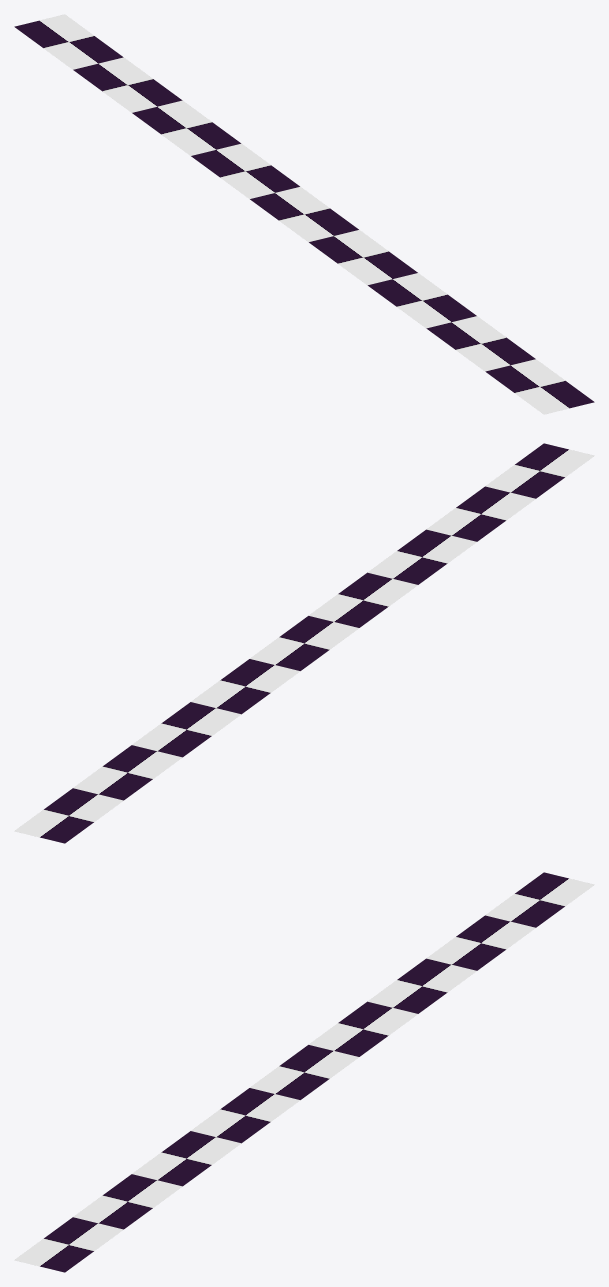
Rendered from checkpoint.glb.
3 views of the same model, one above another, from view 1: azimuth 30°, elevation 25°; view 2: azimuth 150°, elevation 25°; view 3: azimuth 330°, elevation 25° (orthographic).
Visible parts, largest first — view 1: Plane.002, Plane.006, Plane.001, Plane.007, Plane, Plane.003, Plane.005, Plane.008, Plane.004; view 2: Plane.002, Plane.006, Plane.001, Plane.007, Plane, Plane.003, Plane.005, Plane.008, Plane.004; view 3: Plane.002, Plane.006, Plane.001, Plane.007, Plane, Plane.003, Plane.005, Plane.008, Plane.004.
Part boxes in pixels (box(x1,y1,x2,y2)): Plane.002: box(367, 273, 476, 328); Plane.006: box(132, 100, 241, 155); Plane.001: box(426, 316, 535, 371); Plane.007: box(73, 57, 182, 112); Plane: box(485, 359, 594, 414); Plane.003: box(309, 230, 417, 285); Plane.005: box(191, 143, 299, 198); Plane.008: box(14, 14, 123, 69); Plane.004: box(250, 186, 358, 242); Plane.002: box(367, 529, 476, 584); Plane.006: box(132, 702, 241, 757); Plane.001: box(426, 486, 535, 541); Plane.007: box(73, 745, 182, 800); Plane: box(485, 443, 594, 498); Plane.003: box(309, 572, 417, 627); Plane.005: box(191, 659, 299, 714); Plane.008: box(14, 788, 123, 843); Plane.004: box(250, 615, 358, 671); Plane.002: box(132, 1131, 241, 1186); Plane.006: box(367, 958, 476, 1013); Plane.001: box(73, 1174, 182, 1229); Plane.007: box(426, 915, 535, 970); Plane: box(14, 1217, 123, 1272); Plane.003: box(191, 1088, 299, 1143); Plane.005: box(309, 1001, 417, 1056); Plane.008: box(485, 872, 594, 927); Plane.004: box(250, 1044, 358, 1100).
Size of the model in its own units: 1 by 0 by 18.
Materials: 2 (2 with a texture image).
